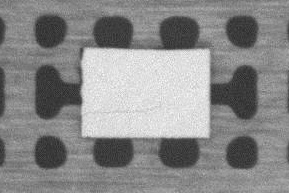DIE_CRACK: (82, 107, 161, 118)
